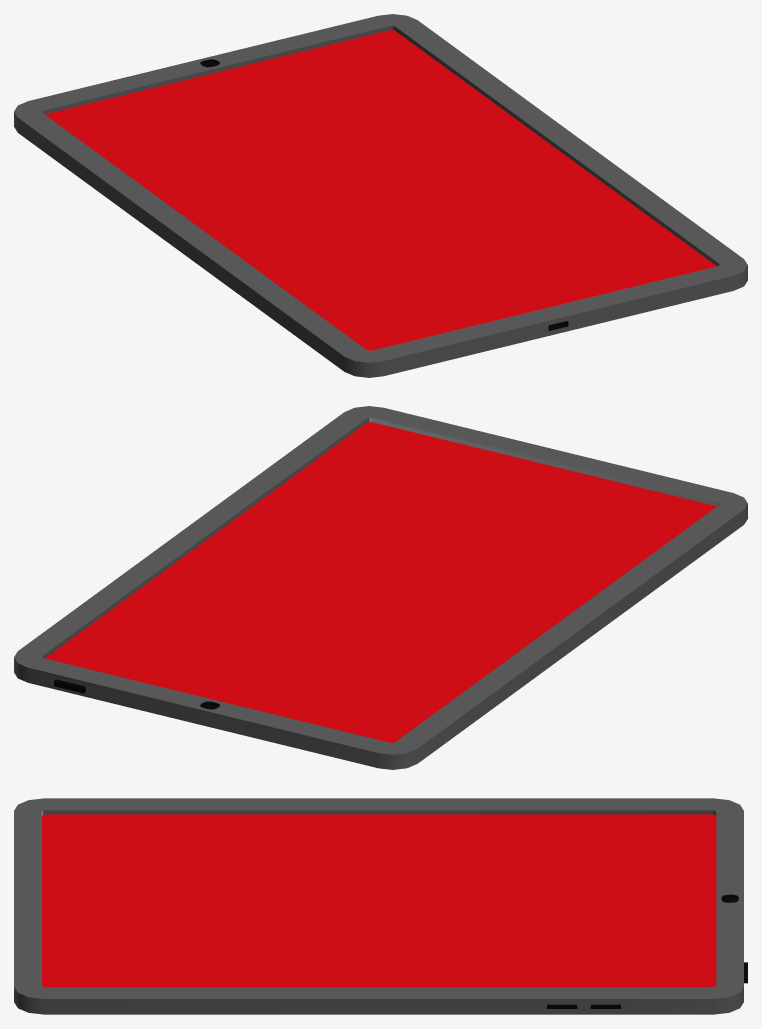
File: tablet.fbx
3 views of the same model, one above another, from view 1: azimuth 30°, elevation 25°; view 2: azimuth 150°, elevation 25°; view 3: azimuth 270°, elevation 25° (orthographic). The views are drawn at different scales.
Parts seen in each view (by area): view 1: Monitor, defaultMaterial; view 2: Monitor, defaultMaterial; view 3: Monitor, defaultMaterial.
Boxes of the visible parts, x1=… form: Monitor: x1=45, y1=30, x2=716, y2=350; defaultMaterial: x1=14, y1=14, x2=747, y2=377; Monitor: x1=45, y1=422, x2=716, y2=742; defaultMaterial: x1=14, y1=406, x2=747, y2=769; Monitor: x1=41, y1=814, x2=716, y2=987; defaultMaterial: x1=14, y1=798, x2=747, y2=1014.
Bounding box in the file's own units: 16.55 × 0.6 × 25.54.
